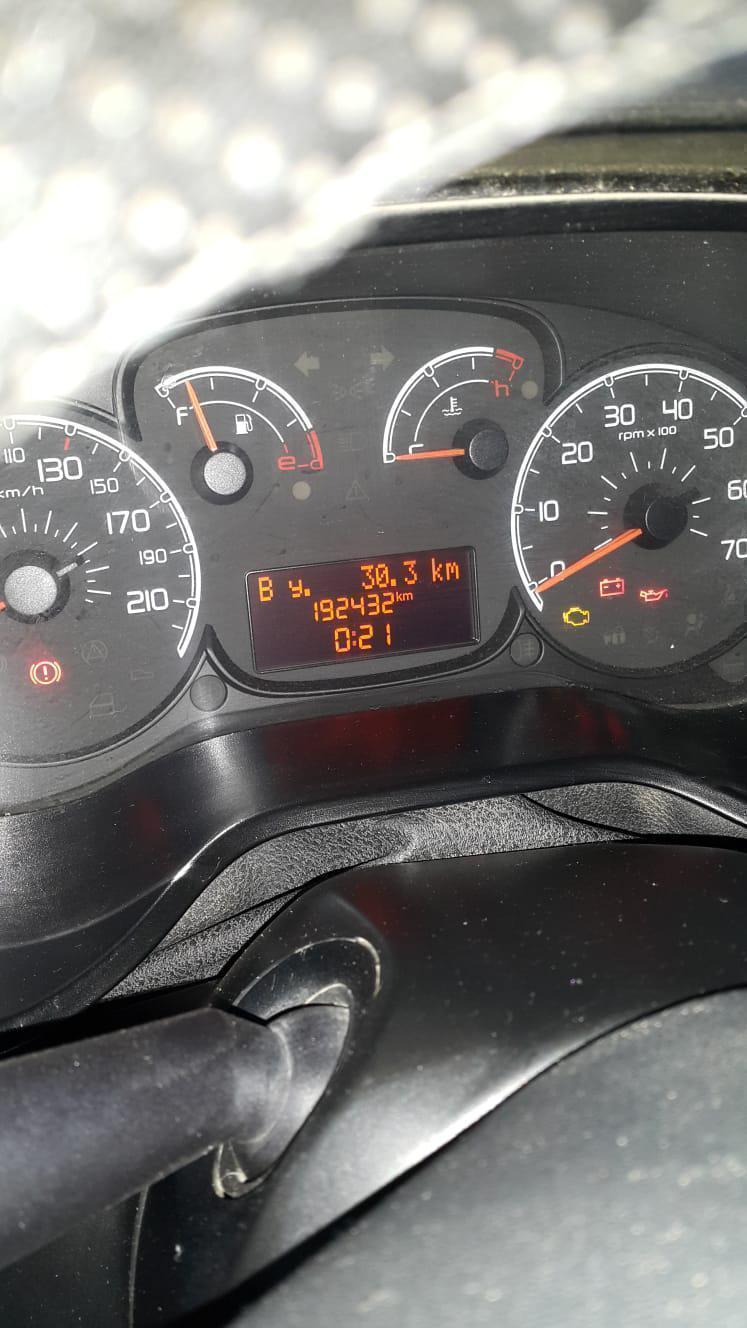,: (389, 575, 397, 587)
0: (333, 625, 351, 653), (374, 561, 390, 588)
1: (382, 622, 394, 647), (311, 599, 319, 622)
2: (359, 623, 374, 650), (336, 595, 348, 622), (382, 591, 393, 615)
3: (403, 558, 419, 586), (359, 563, 375, 589), (368, 592, 380, 617)
4: (349, 595, 365, 615)
9: (320, 597, 334, 623)
X: (257, 575, 275, 603), (429, 554, 444, 583), (285, 577, 301, 600), (445, 560, 460, 580), (351, 628, 358, 647), (402, 590, 413, 601), (394, 590, 403, 603), (302, 586, 312, 597)
odometer: (242, 543, 484, 676)
